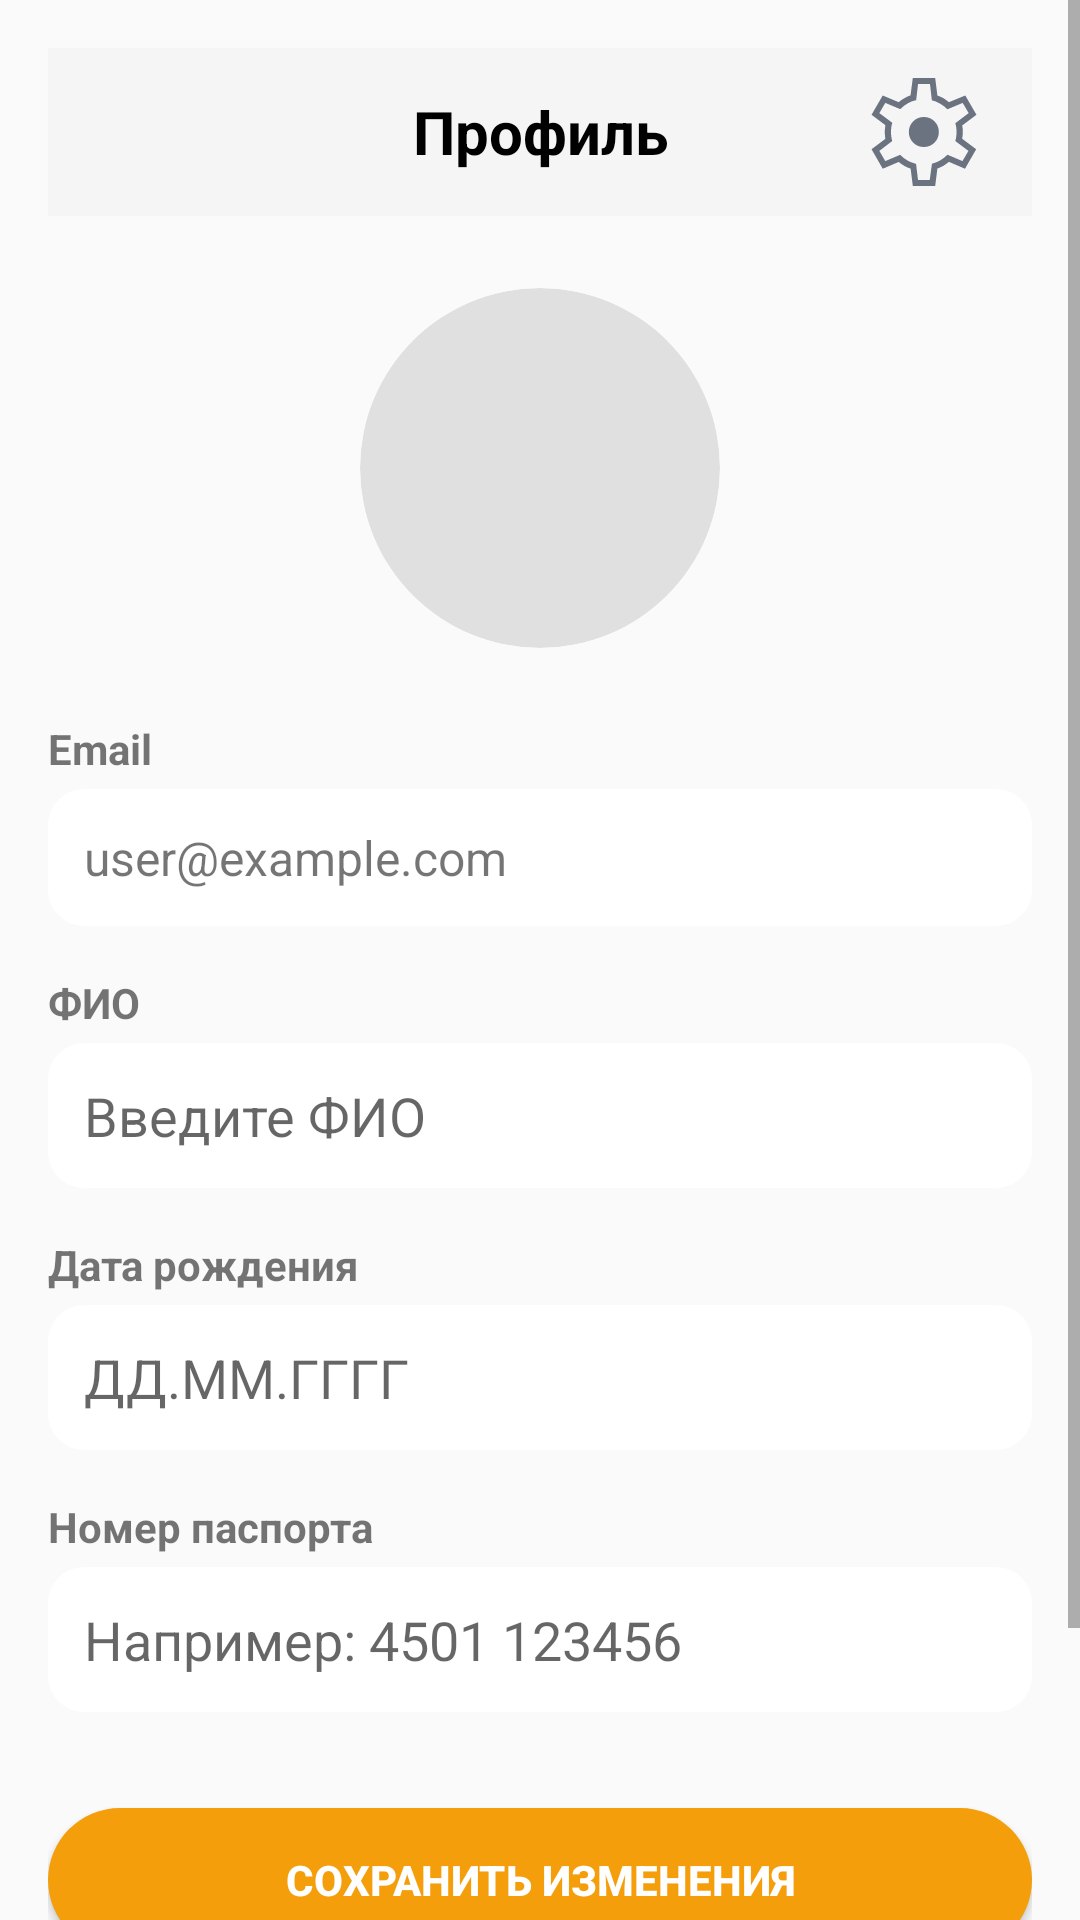

Icon bounding boxes for this 1080px x 1920px phone screenshot, format (x1, y1, x2, y2):
Настройки: (871, 78, 977, 186)
